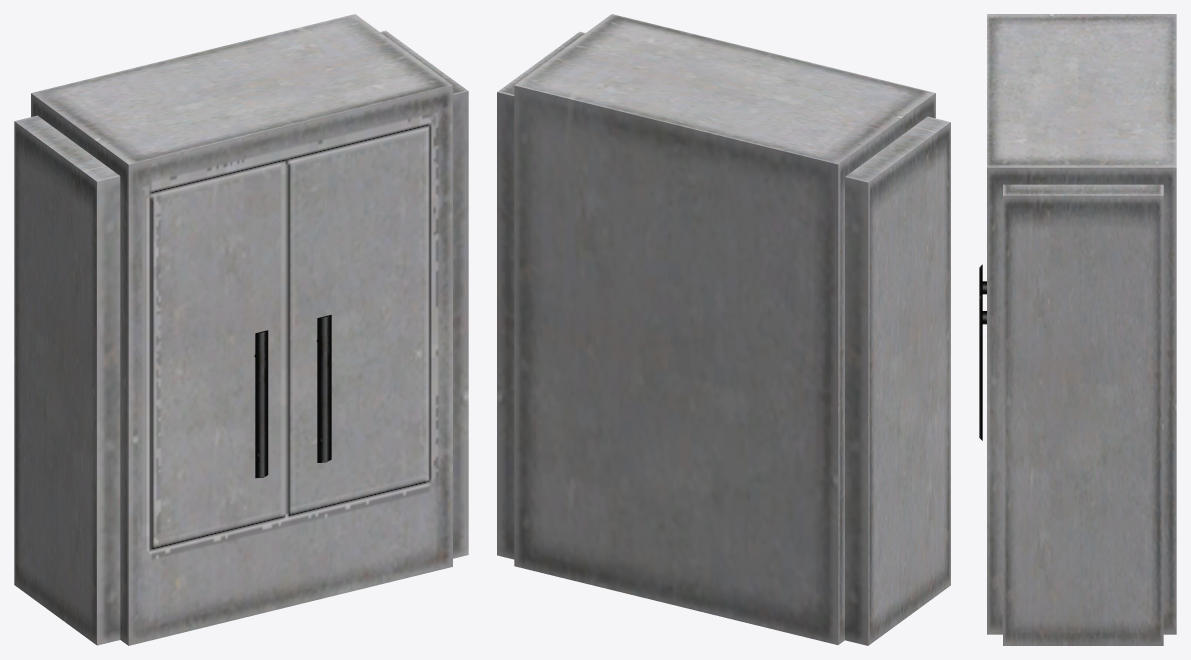
Rendered from frn_all_plan_armoire_s01.fbx.
3 views of the same model, side by side, from view 1: azimuth 30°, elevation 25°; view 2: azimuth 150°, elevation 25°; view 3: azimuth 270°, elevation 25° (orthographic). The views are drawn at different scales.
Visible parts, largest first — view 1: mesh_node; view 2: mesh_node; view 3: mesh_node.
Part boxes in pixels (left/top/right/bottom): mesh_node: left=14, top=14, right=468, bottom=645; mesh_node: left=497, top=14, right=950, bottom=645; mesh_node: left=979, top=14, right=1176, bottom=645.
Bounding box in the file's own units: 1.46 × 1.8 × 0.6904.
